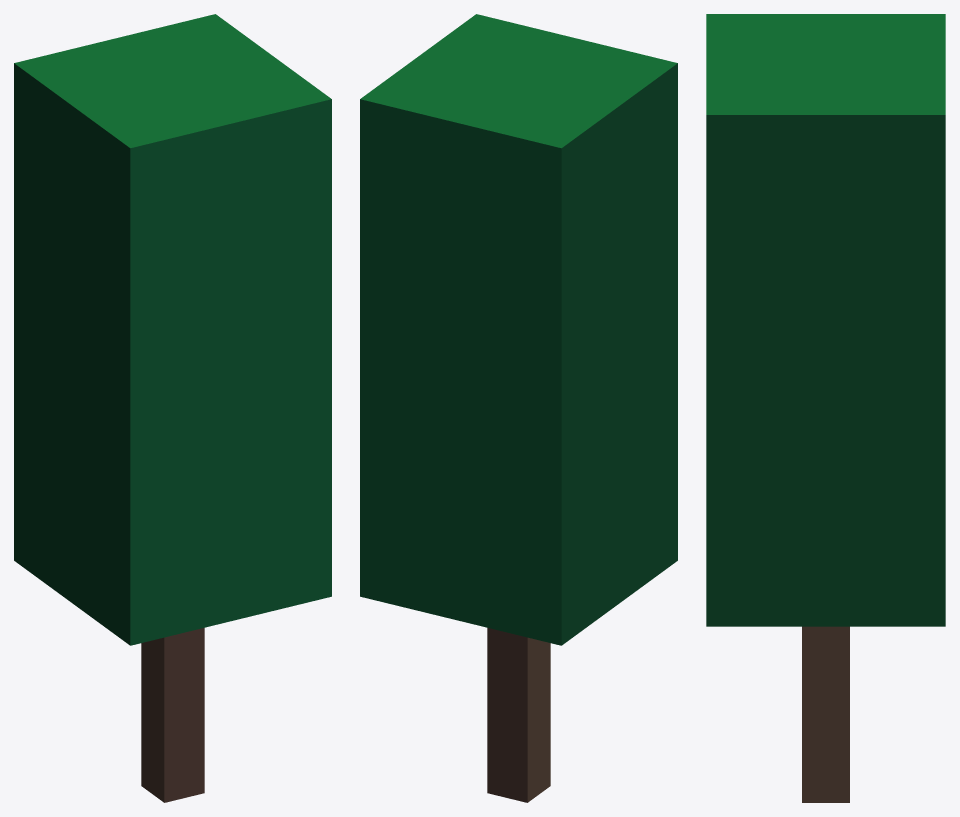
Rendered from TB_CITY_Env_Tree_Cube_A.FBX.
The picture shows the model from 3 angles, left to right: view 1: azimuth 30°, elevation 25°; view 2: azimuth 150°, elevation 25°; view 3: azimuth 270°, elevation 25°; orthographic projection. The views are drawn at different scales.
Visible parts, largest first — view 1: TB_CITY_Env_Tree_Cube_A; view 2: TB_CITY_Env_Tree_Cube_A; view 3: TB_CITY_Env_Tree_Cube_A.
Boxes of the visible parts, x1,y1,x2,y2 form: TB_CITY_Env_Tree_Cube_A: (14,14,331,802); TB_CITY_Env_Tree_Cube_A: (360,14,677,802); TB_CITY_Env_Tree_Cube_A: (706,14,945,802).
Bounding box in the file's own units: 1.8 × 6.05 × 1.8.
